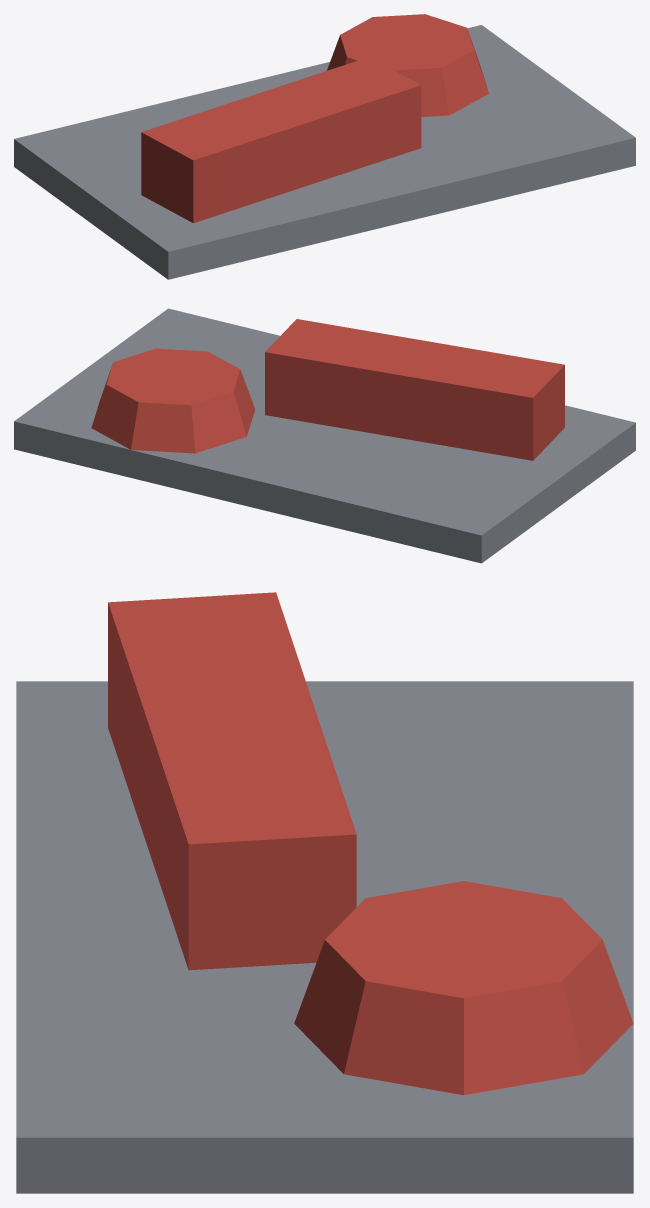
File: prop-seal-blank-wax.fbx
3 views of the same model, one above another, from view 1: azimuth 30°, elevation 25°; view 2: azimuth 150°, elevation 25°; view 3: azimuth 270°, elevation 25° (orthographic). The views are drawn at different scales.
Visible parts, largest first — view 1: prop-seal-blank-wax; view 2: prop-seal-blank-wax; view 3: prop-seal-blank-wax.
Boxes of the visible parts, <box> form: prop-seal-blank-wax: <box>14,14,635,279</box>; prop-seal-blank-wax: <box>14,308,635,563</box>; prop-seal-blank-wax: <box>16,592,633,1193</box>.
Size of the model in its own units: 14 by 2.6 by 8.
